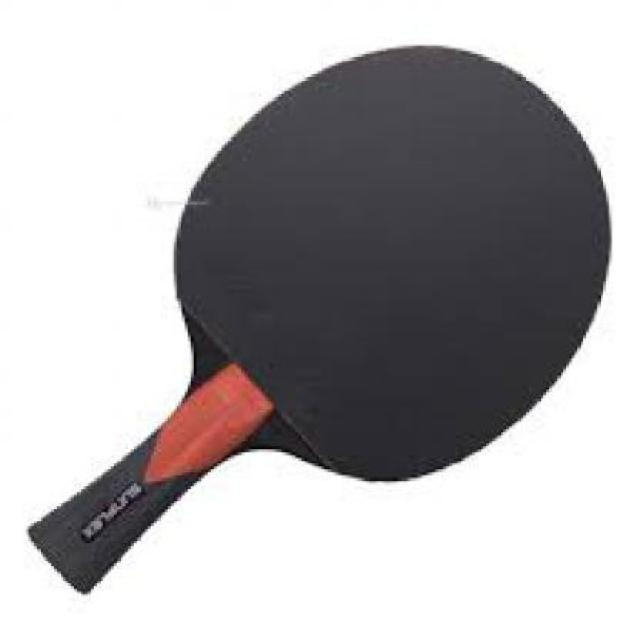table_tennis_racket: (172, 40, 616, 512)
